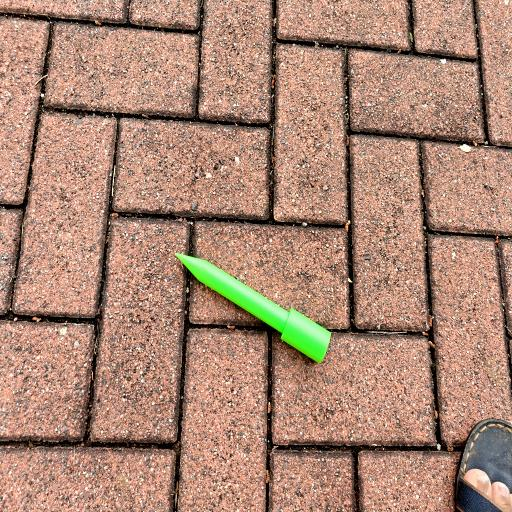Probe-Detection: (175, 253, 331, 362)
